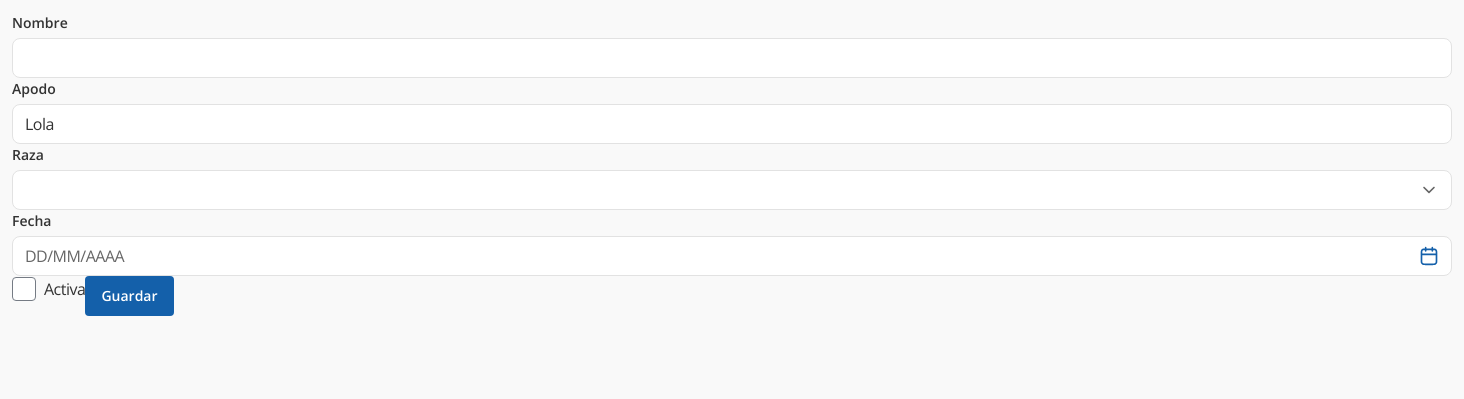
FormField › shows translated zod errors and focuses the first bad field
Click the button "Guardar" at [129, 296], box [85,276,174,316]
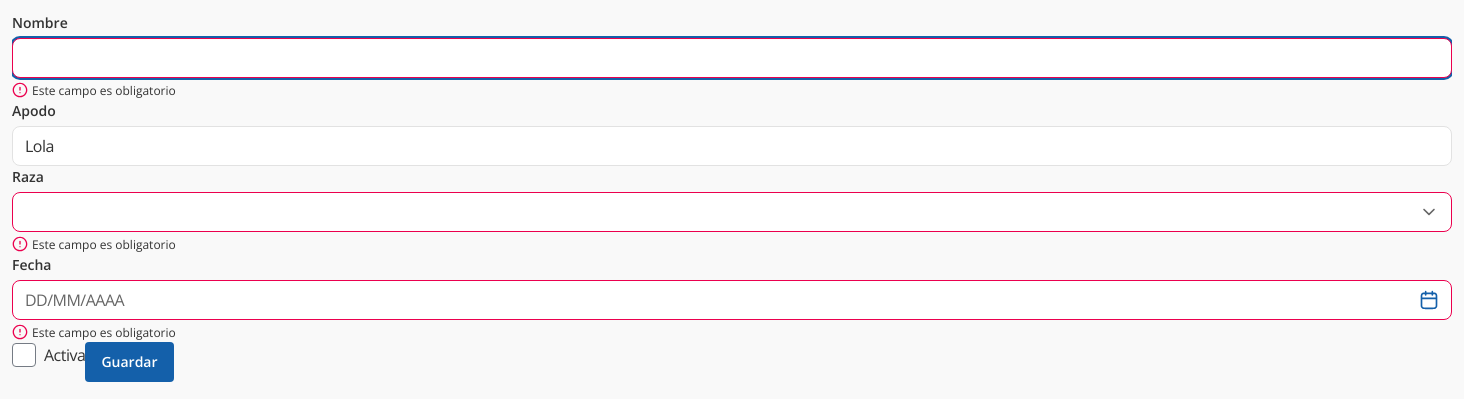
Expected: the text "Este campo es obligatorio" is shown 3 times, [12,82,176,99]; [12,236,176,253]; [12,324,176,341]
